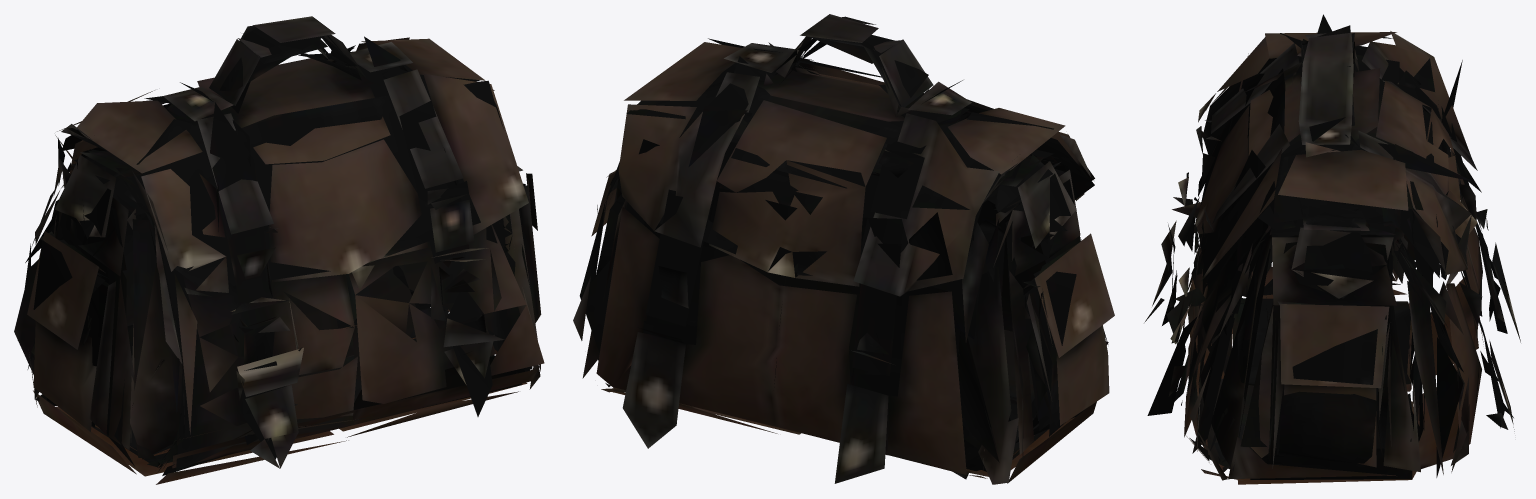
File: pro_satchel.glb
3 renders of one model, left to right at view 1: azimuth 30°, elevation 25°; view 2: azimuth 150°, elevation 25°; view 3: azimuth 270°, elevation 25°, orthographic. The views are drawn at different scales.
Parts seen in each view (by area): view 1: MetricPlacement; view 2: MetricPlacement; view 3: MetricPlacement.
Boxes of the visible parts, left/top/right/bottom form: MetricPlacement: left=14, top=16, right=544, bottom=484; MetricPlacement: left=573, top=14, right=1114, bottom=484; MetricPlacement: left=1144, top=14, right=1520, bottom=484.
Size of the model in its own units: 0.32 by 0.2486 by 0.2333.
Materials: 1 (1 with a texture image).
